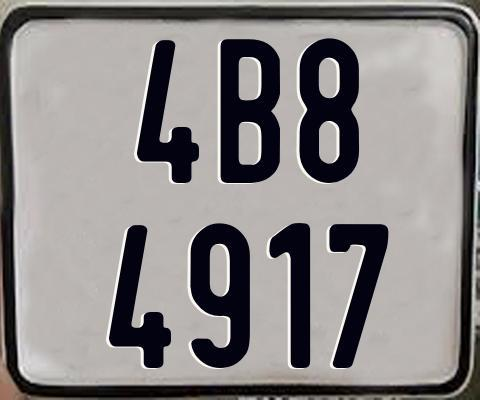1: (268, 221, 309, 366)
4: (109, 225, 177, 374), (135, 37, 199, 186)
7: (329, 224, 391, 370)
8: (298, 36, 360, 185)
9: (189, 223, 254, 370)
B: (221, 38, 284, 188)
